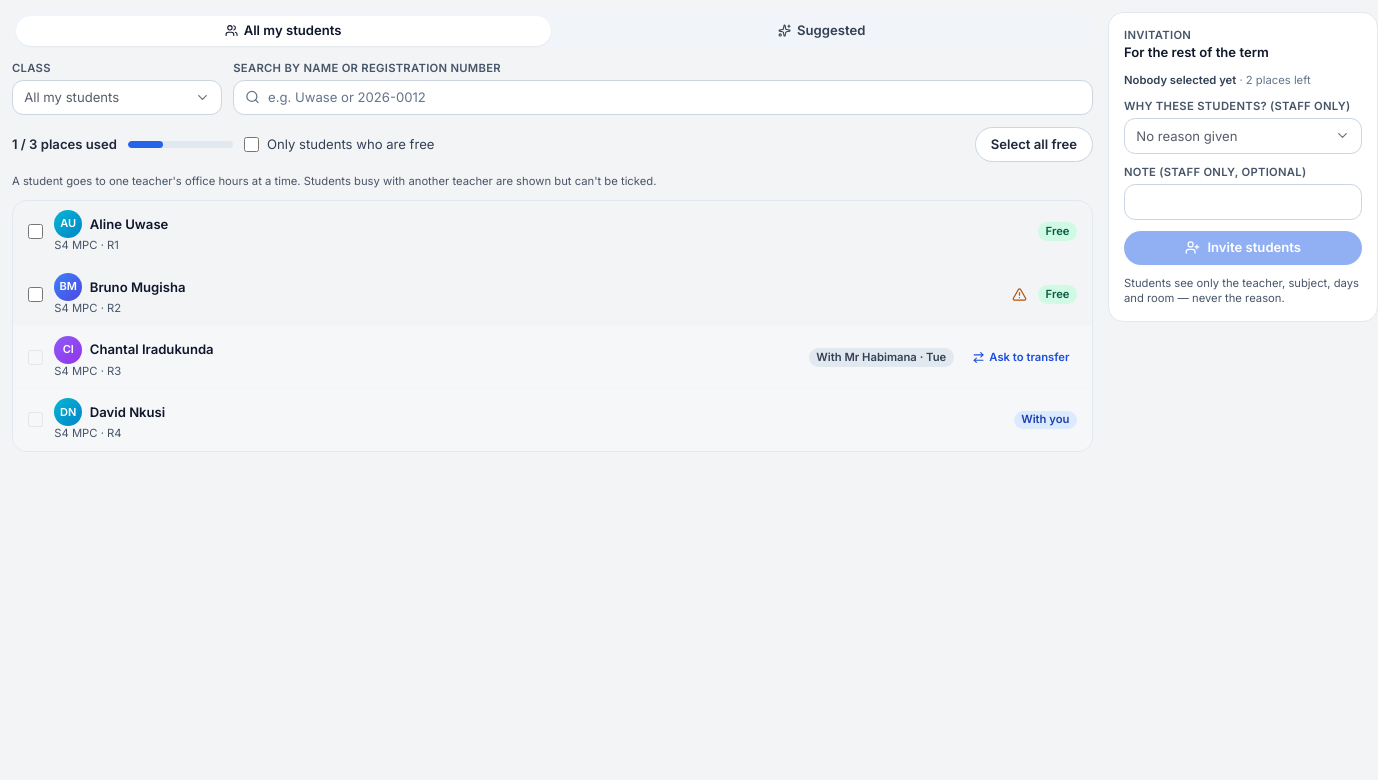
office-hours student picker › caps the selection at the places left and reports conflicts the server found
Expected: the text "Aline Uwase" is shown, [90,215,168,234]
Click the button "Select all free" at (1034, 144), box [975,126,1093,162]
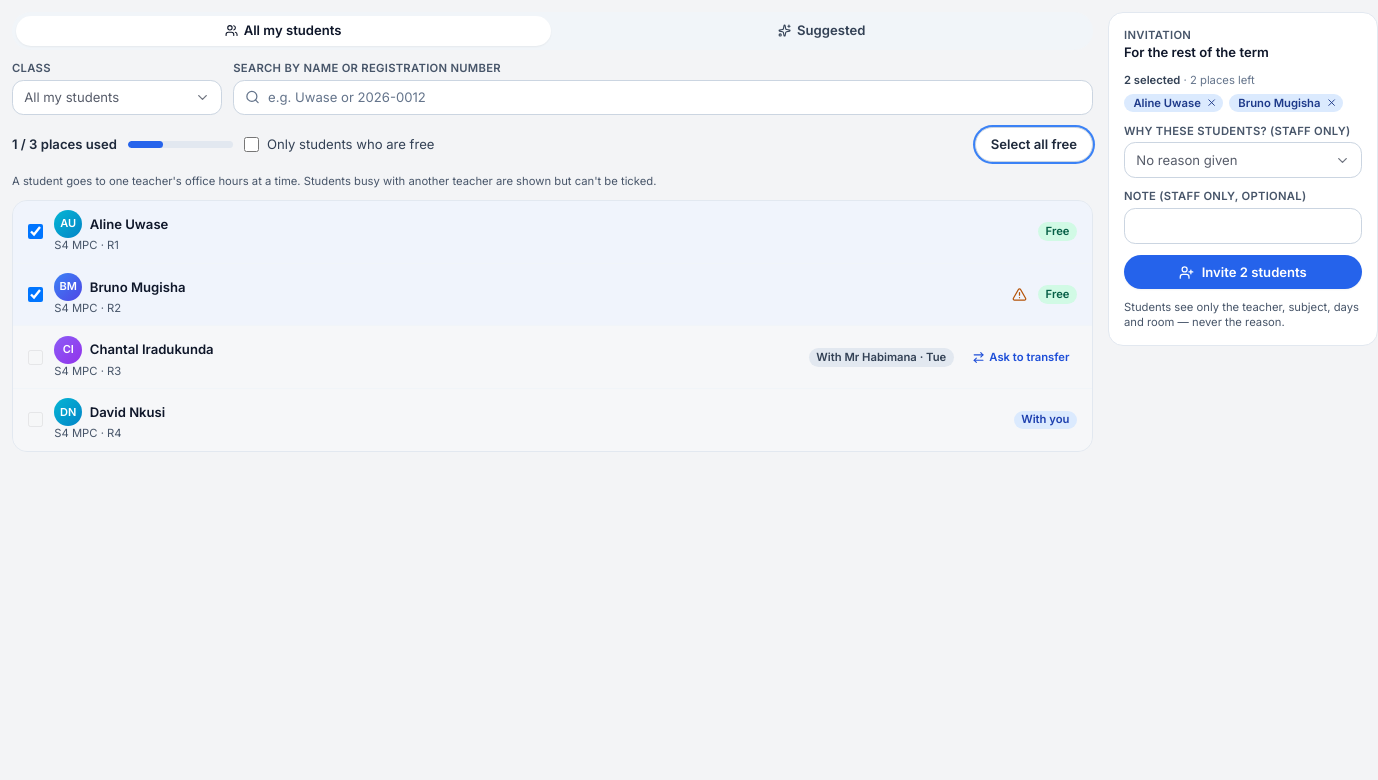
Now the checkbox labelled "AU Aline Uwase S4 MPC · R1" is checked, box [28,224,43,239]
Now the checkbox labelled "BM Bruno Mugisha S4 MPC · R2" is checked, box [28,287,43,302]
Select "Below standard" in the dropdown labelled "Why these students? (staff only)" at (1243, 131), box [1124,124,1362,139]
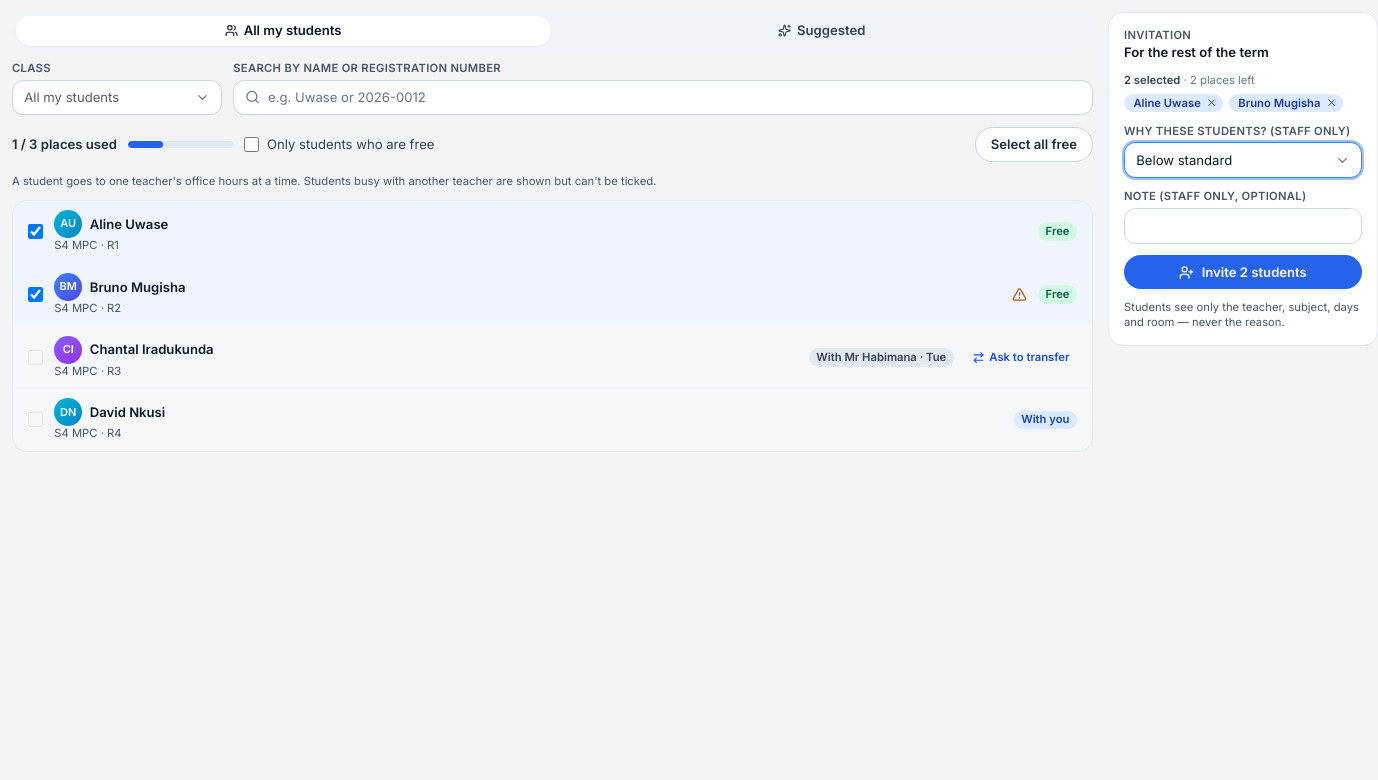
Click the button "Invite 2 students" at (1243, 272), box [1124,255,1362,289]
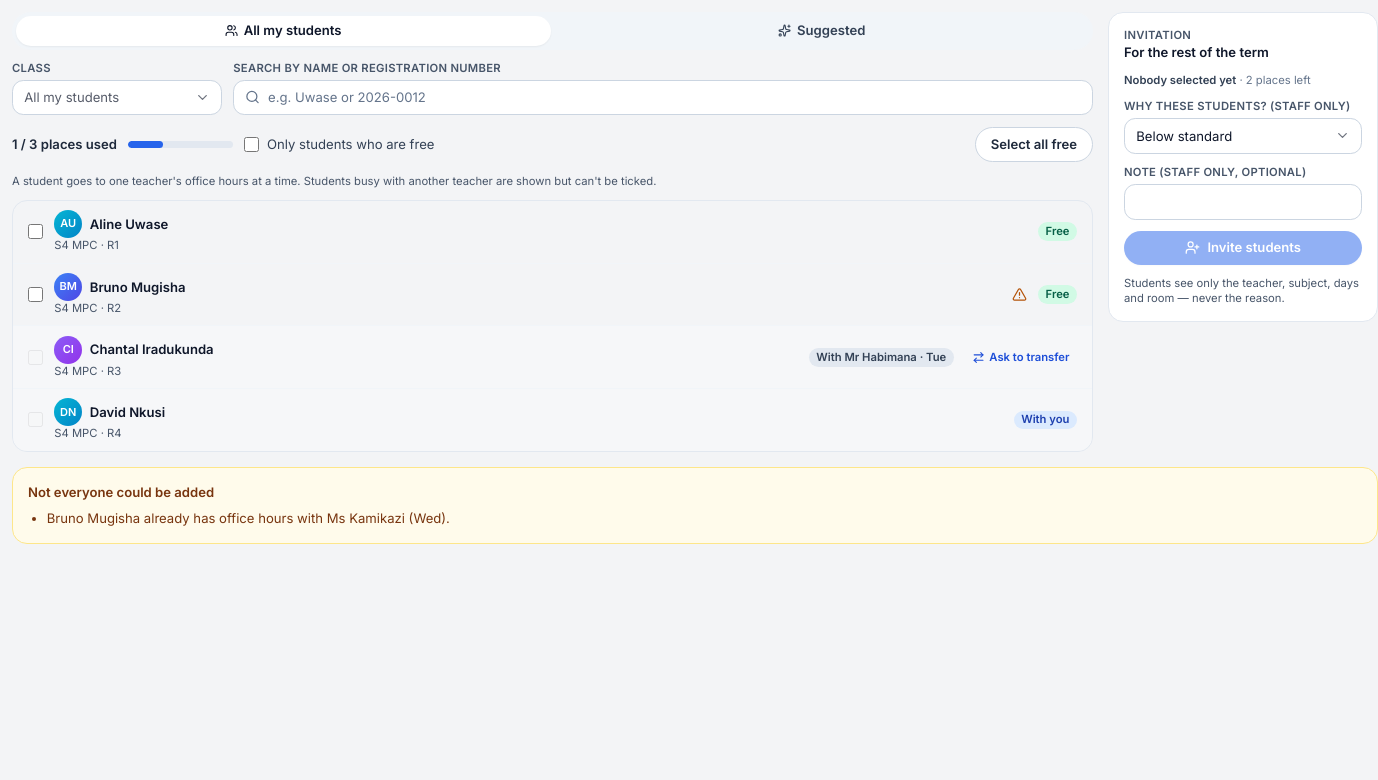
Now the list item "Bruno Mugisha already has office hours with Ms Kamikazi (Wed)" is shown, box [47,510,450,526]
